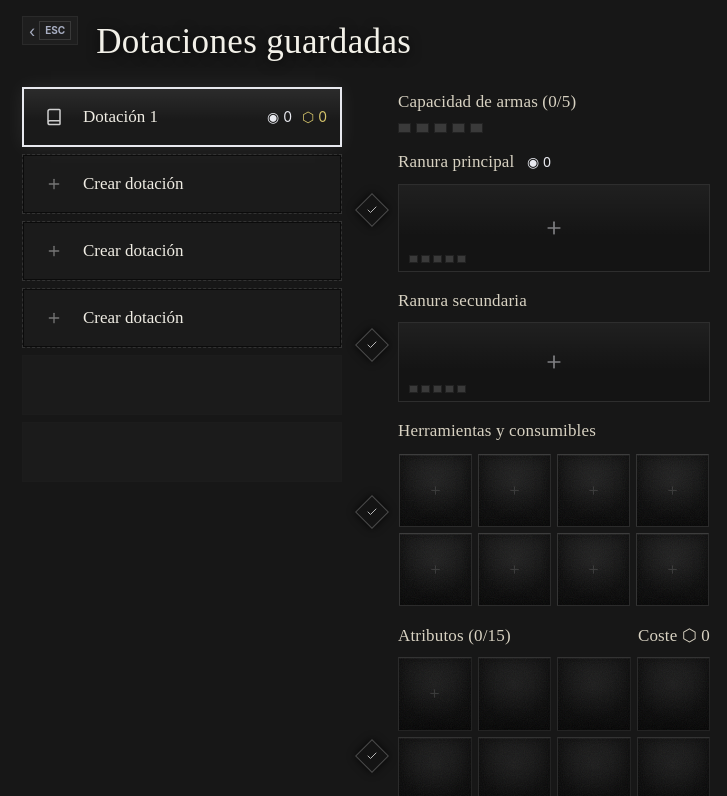
Scenario: DotacionesGuardadas › creates empty dotaciones with plus buttons up to 4, then shows unlock
Expected: the number of options is 1, [22,86,342,146]
Expected: the text "desbloquear ranura" is not shown
Click the 1st button "Crear dotación".
click(182, 184)  # box [22,154,342,214]
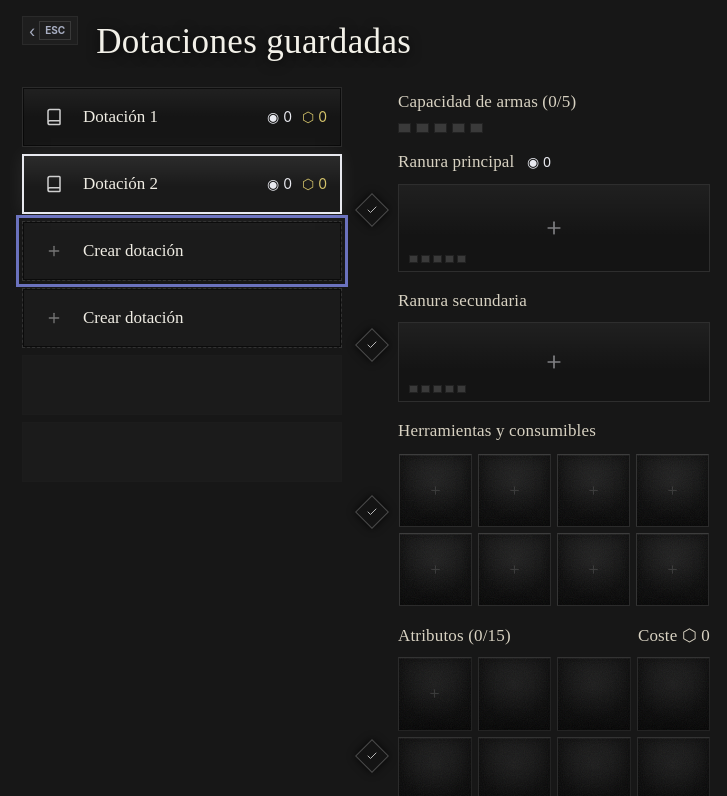
Expected: the option "Dotación 2 ◉ 0 ⬡ 0" is shown, [22,154,342,214]
Click the 1st button "Crear dotación".
click(182, 250)  # box [22,220,342,280]
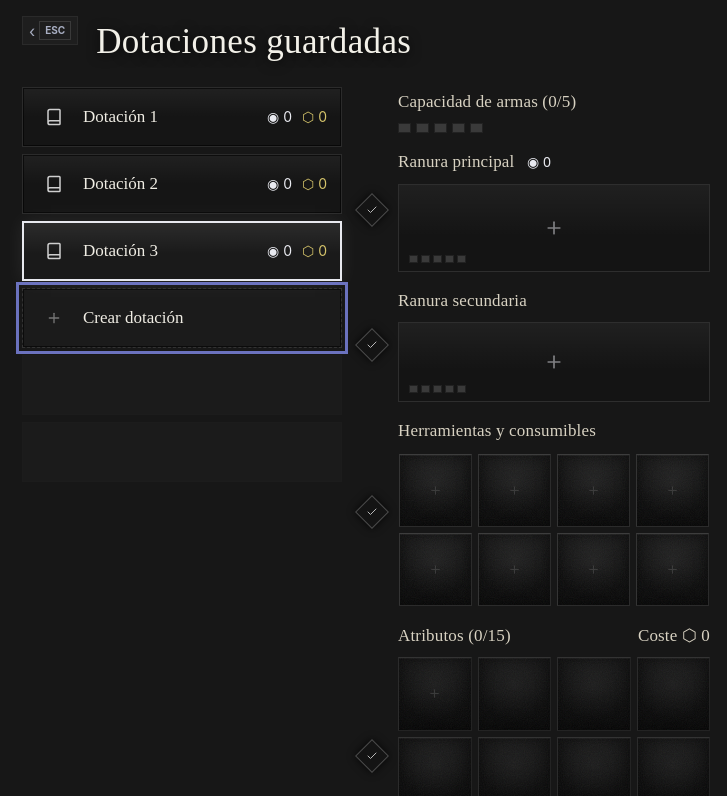
Click the button "Crear dotación".
click(182, 318)  # box [22,288,342,348]
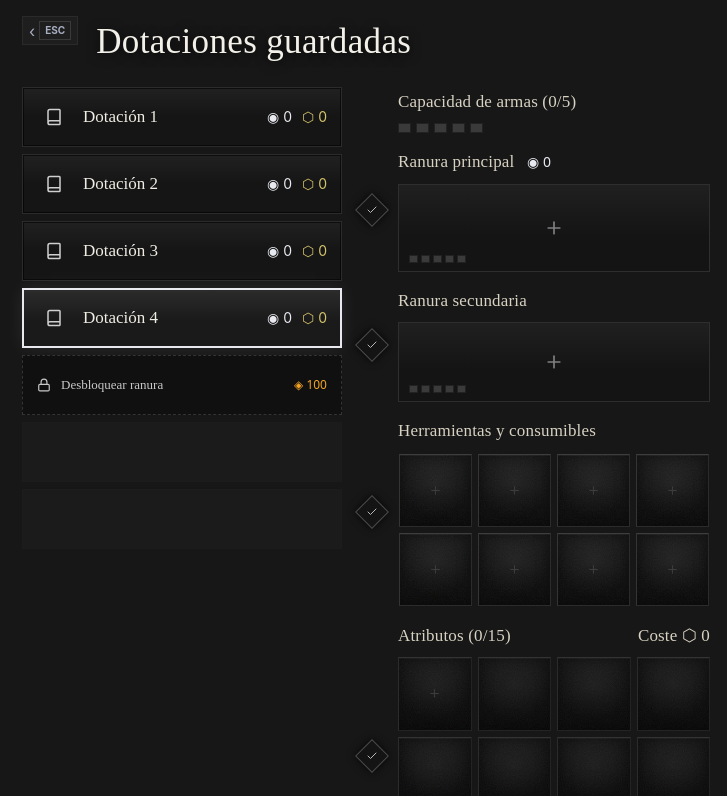
Expected: the option "Dotación 4 ◉ 0 ⬡ 0" is shown, [22,288,342,348]
Expected: the text "Desbloquear ranura" is shown, [61,375,163,394]
Expected: the button "Crear dotación" is gone
